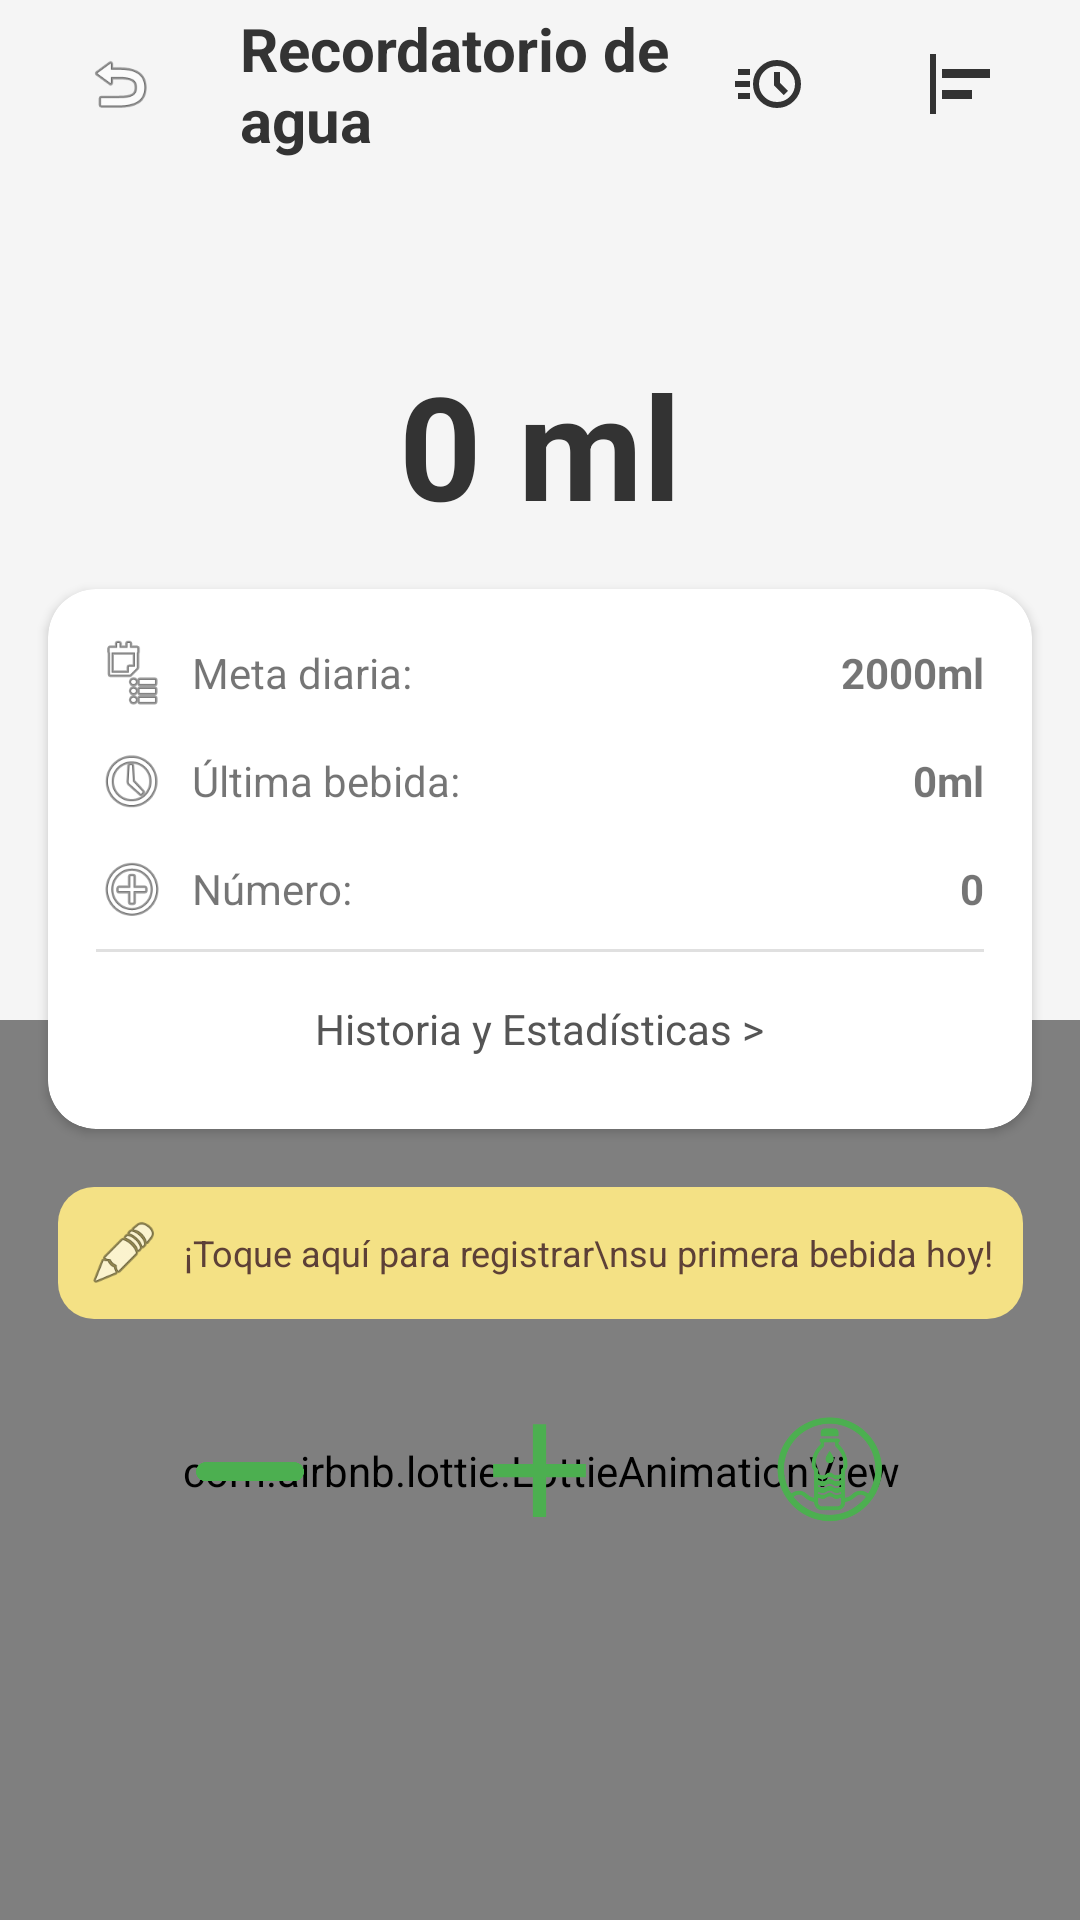

Icons on this 1080w x 1920h Android screen, each with its box as [x1, y1, x2, y2]:
Atrás: [95, 61, 147, 108]
edit: [93, 1222, 154, 1283]
Icono de meta: [107, 641, 158, 705]
